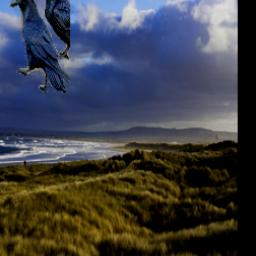Crow: (9, 0, 70, 94)
